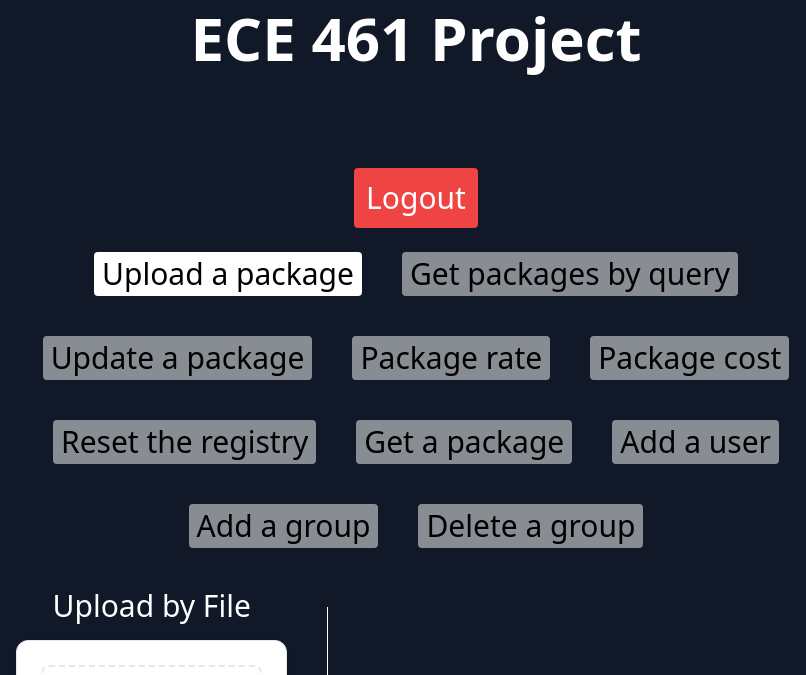
Scenario: Home Component › should render the correct component based on active tab
Expected: the tab "Upload a package" is shown, [94, 252, 362, 296]
// Simulate switching to "Reset the registry" tab
Step 1. Click the tab "Reset the registry" → coordinates (185, 442), box [53, 420, 316, 464]
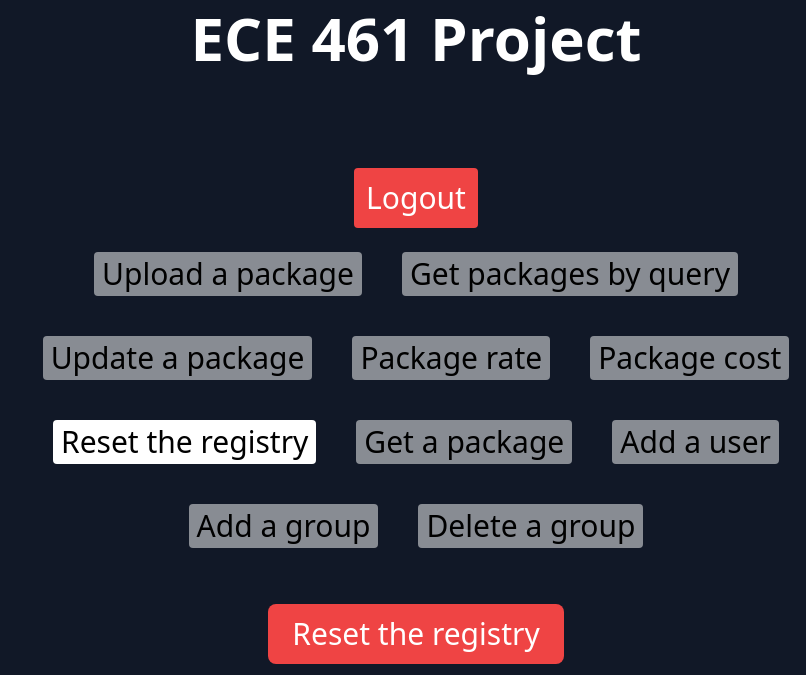
Expected: the button "Reset the registry" is shown, [268, 604, 564, 664]
